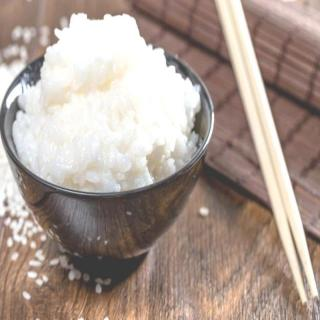Nasi: (11, 12, 203, 194)
